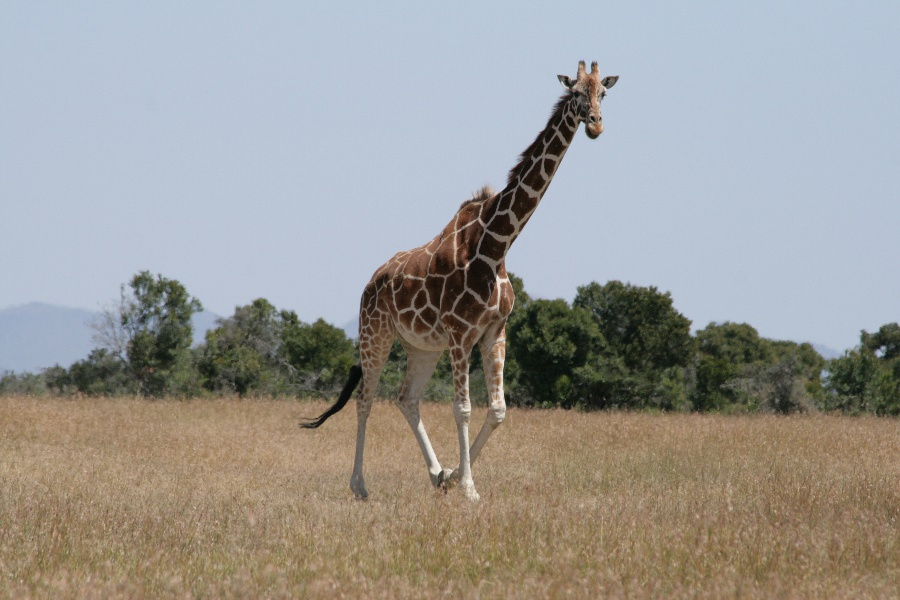giraffe: (329, 60, 628, 512)
